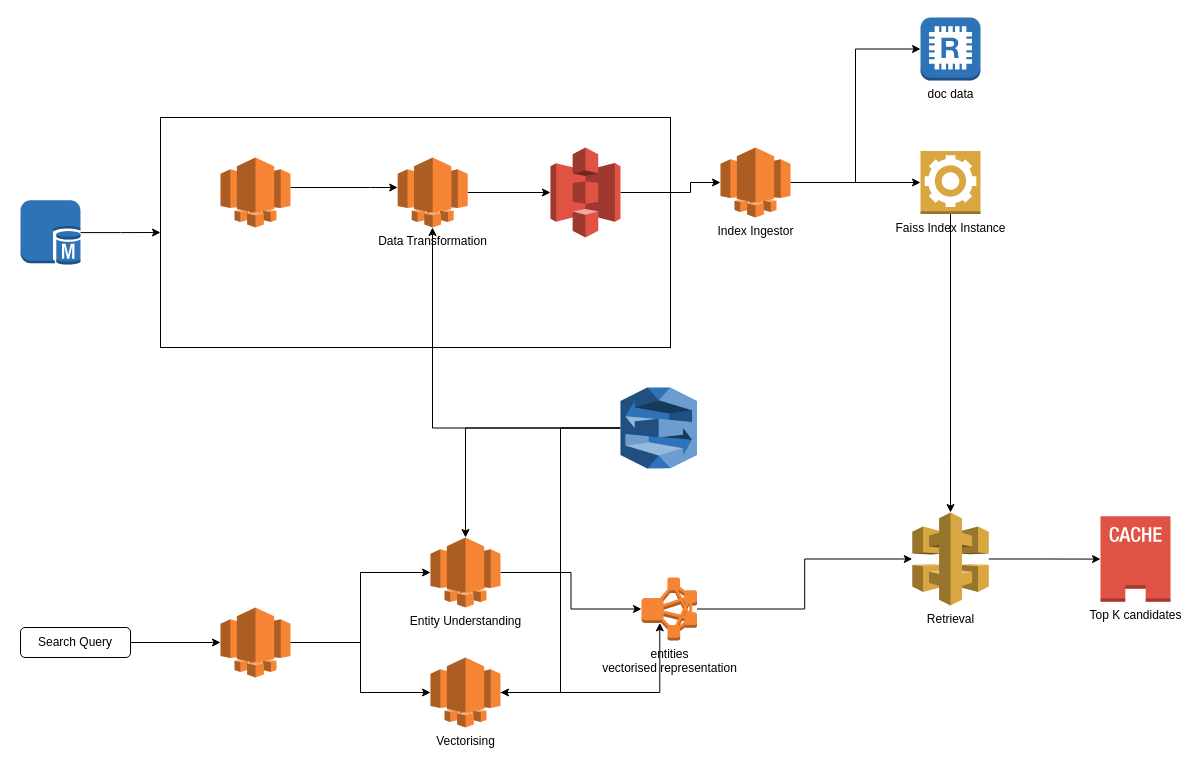
This 1199x766 diagram has some shape labels left out. Here are the shapes that lost their labels. From the top down, the centre of each, then its label:
At (255,192): "Data Preprocessing/Cleanse".
At (585,192): "Processed data storage".
At (50,232): "Source Data".
At (658,427): "LLM models wrapper".
At (255,642): "Query Preprocessing/Cleanse".
